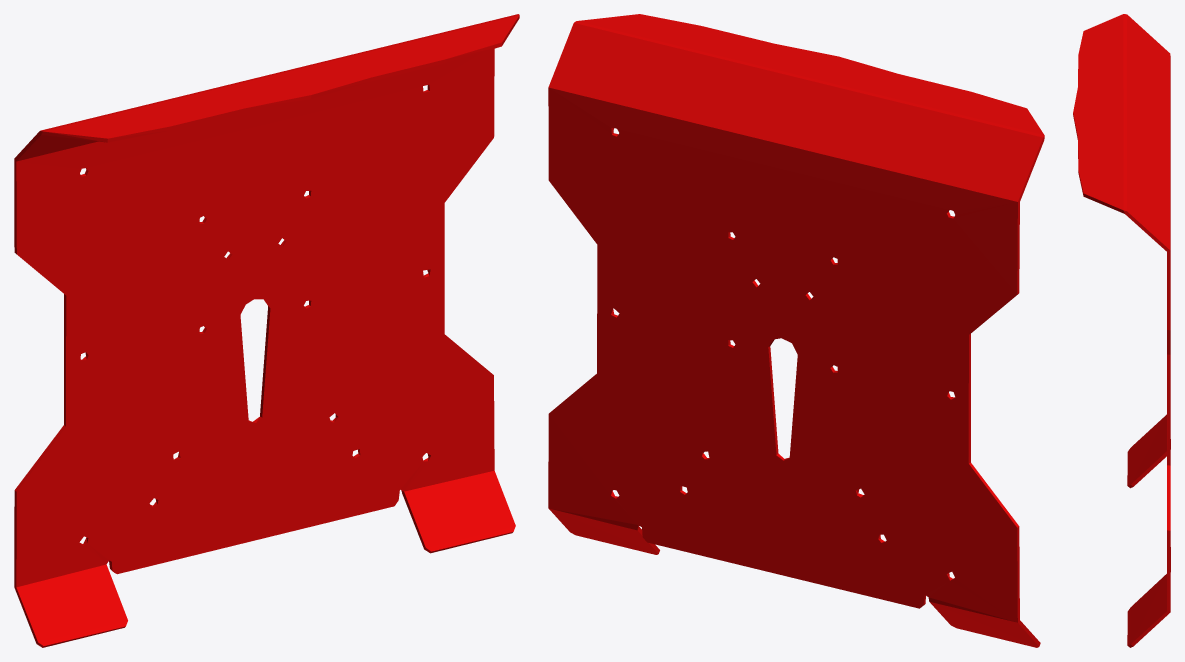
The model's file is upper.dae.
3 renders of one model, left to right at view 1: azimuth 30°, elevation 25°; view 2: azimuth 150°, elevation 25°; view 3: azimuth 270°, elevation 25°, orthographic. The views are drawn at different scales.
Parts seen in each view (by area): view 1: Top_Cover_V1; view 2: Top_Cover_V1; view 3: Top_Cover_V1.
Part boxes in pixels (left/top/right/bottom): Top_Cover_V1: left=14, top=14, right=519, bottom=647; Top_Cover_V1: left=548, top=14, right=1044, bottom=647; Top_Cover_V1: left=1073, top=14, right=1170, bottom=647.
Bounding box in the file's own units: 190 × 39.83 × 198.
